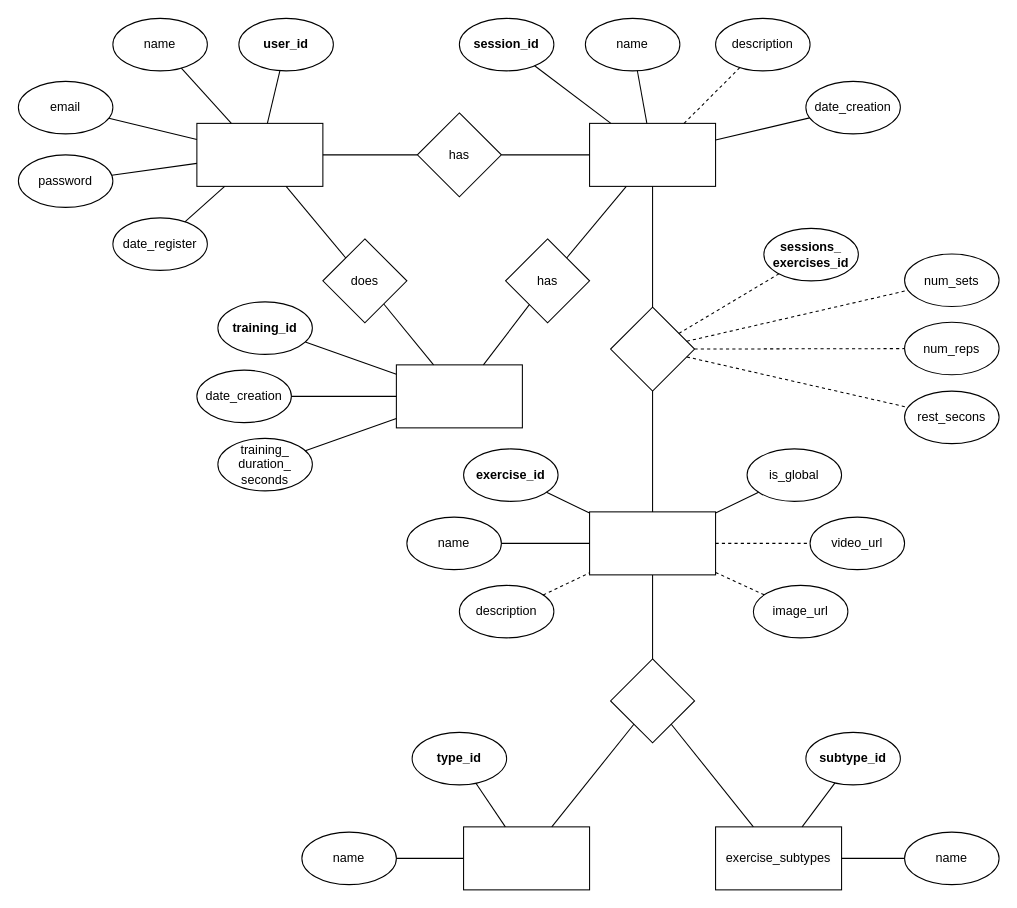
This 1017x908 diagram has some shape labels left out. The shapes that lost their labels are listed below. From the top down, each one's box as (x1, y1, x2, y2) in pixels, then its label:
(196, 122, 323, 186): users
(589, 122, 716, 186): sessions
(610, 306, 695, 391): consists
(395, 364, 522, 428): trainings
(589, 511, 716, 575): exercises
(610, 658, 695, 743): contains
(463, 826, 590, 890): exercise_types
